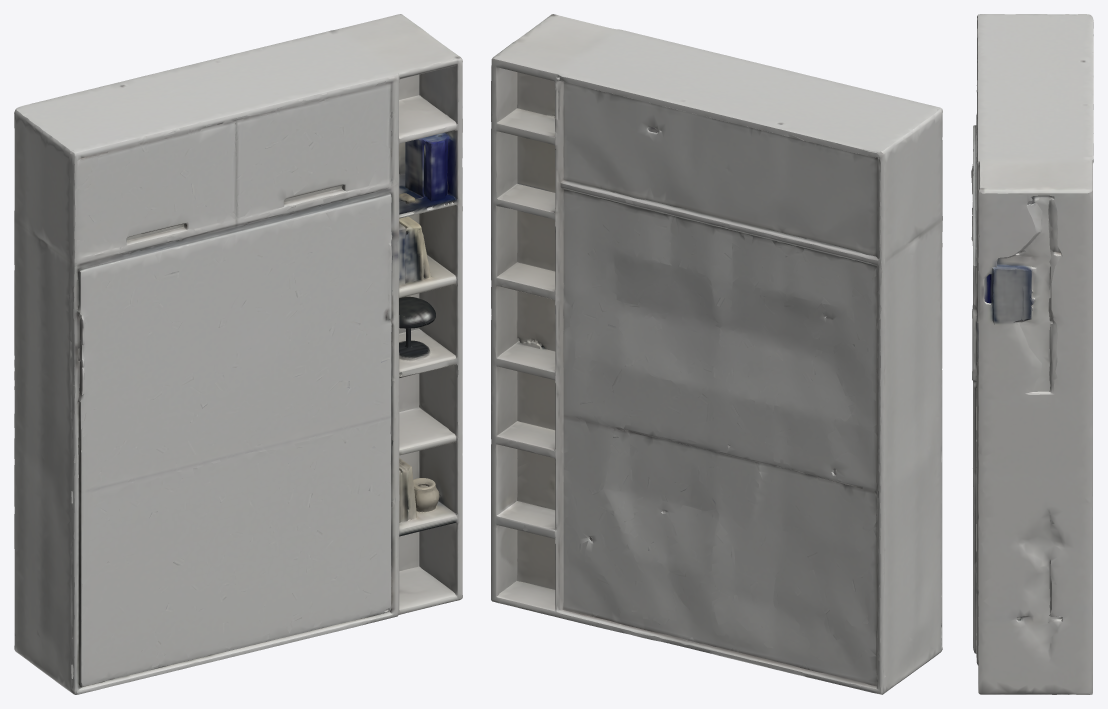
Rendered from item_12884f46.glb.
The picture shows the model from 3 angles, left to right: view 1: azimuth 30°, elevation 25°; view 2: azimuth 150°, elevation 25°; view 3: azimuth 270°, elevation 25°; orthographic projection. The views are drawn at different scales.
Parts seen in each view (by area): view 1: world; view 2: world; view 3: world.
Part boxes in pixels (x1,y1,x2,y2): world: (14, 14, 462, 694); world: (491, 14, 942, 694); world: (971, 14, 1093, 694).
Bounding box in the file's own units: 1.75 × 2.3 × 0.5052.
Materials: 1 (1 with a texture image).
